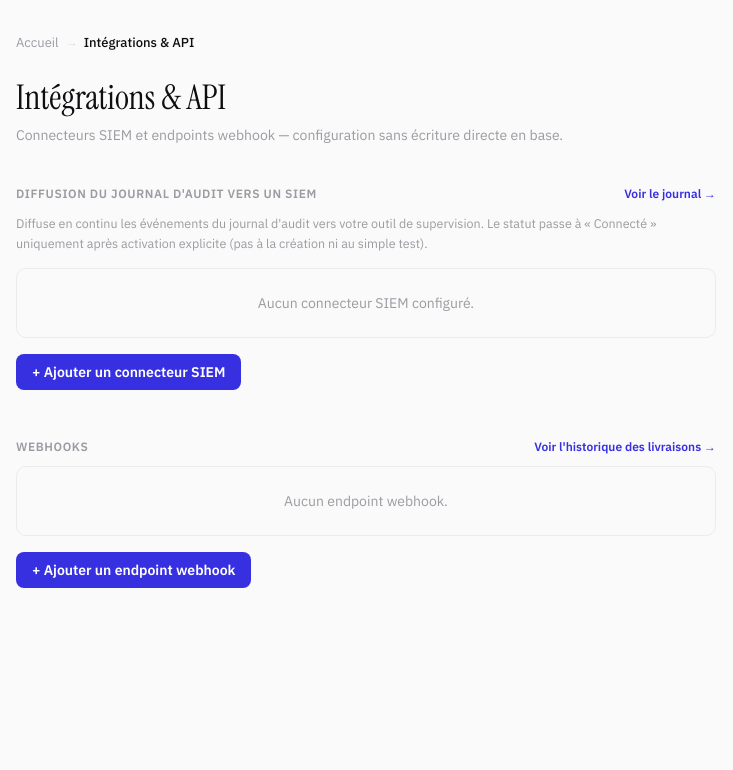
IntegrationsPage › affiche le secret webhook une seule fois à la création
expect the list item "Aucun endpoint webhook." is shown: met, box [284, 492, 448, 510]
Click the button "+ Ajouter un endpoint webhook" at [134, 570], box [16, 552, 251, 588]
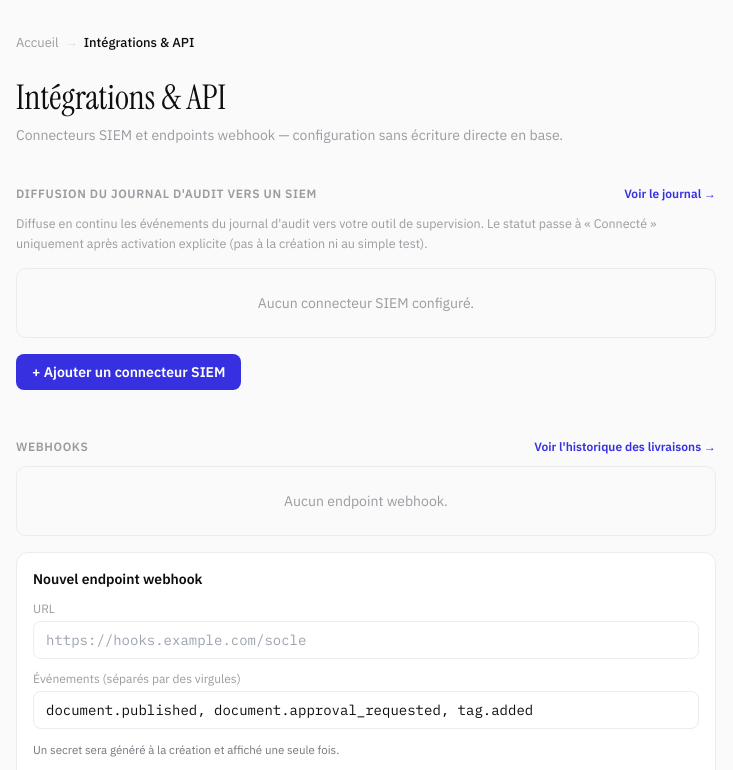
Type "https://hooks.example/socle" into the field with placeholder "https://hooks.example.com/socle" at [366, 640], box [33, 621, 699, 659]
(page scrolled)
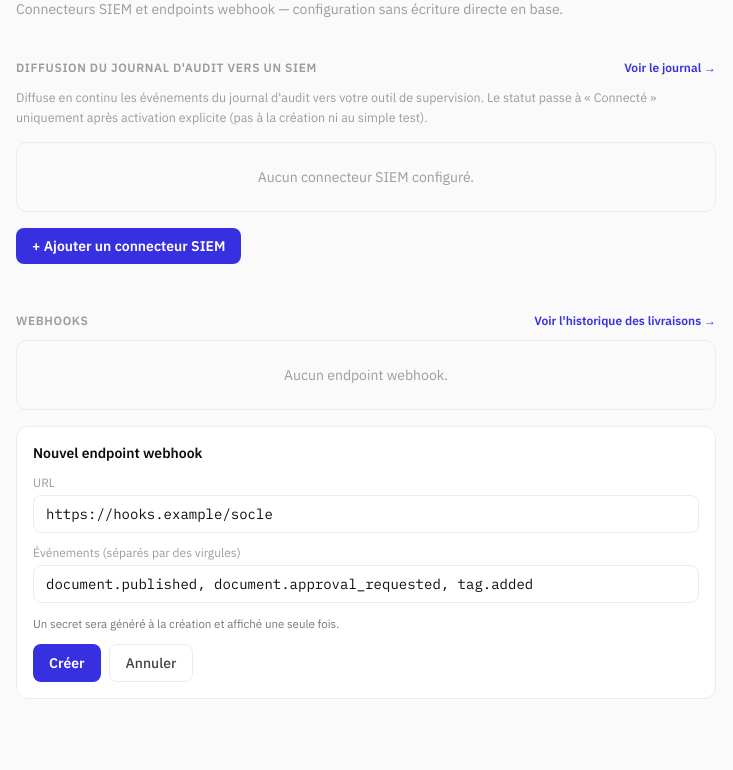
Click the button "Créer" at [67, 663], box [33, 644, 100, 682]
(page scrolled)
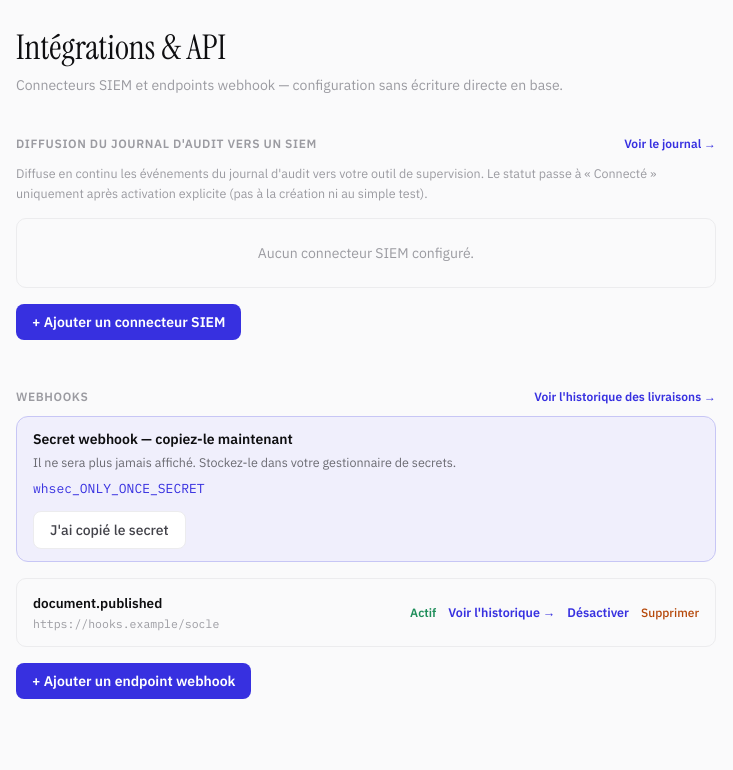
expect the element with test id "webhook-secret-oneshot" is shown: met, box [16, 416, 716, 562]
expect the text "whsec_ONLY_ONCE_SECRET" is shown: met, box [33, 480, 205, 497]
expect the text "ne sera plus jamais affiché" is shown: met, box [33, 454, 456, 470]
Click the button "J'ai copié le secret" at [109, 530], box [33, 511, 186, 549]
(page scrolled)
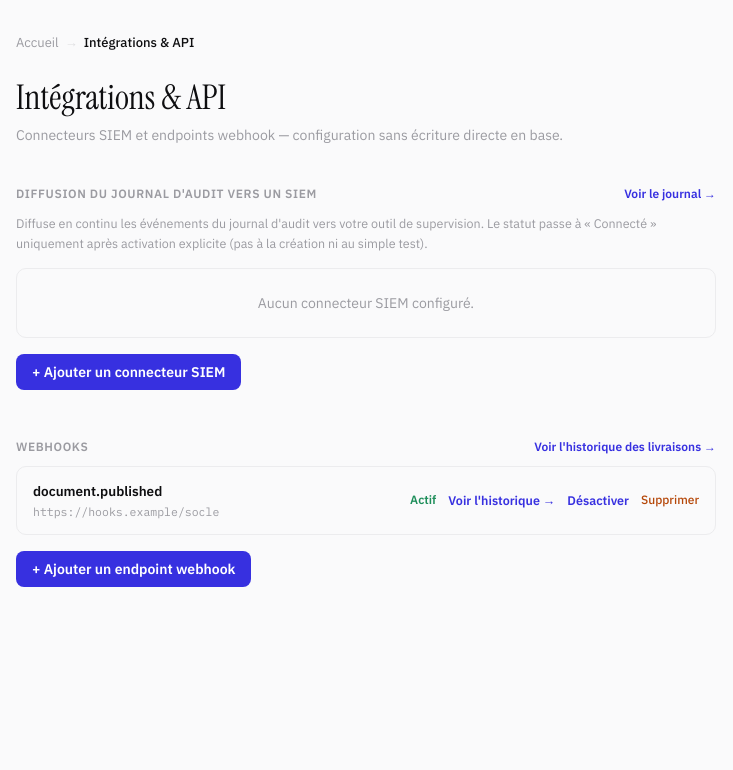
expect the element with test id "webhook-secret-oneshot" is gone: met
expect the text "whsec_ONLY_ONCE_SECRET" is gone: met
